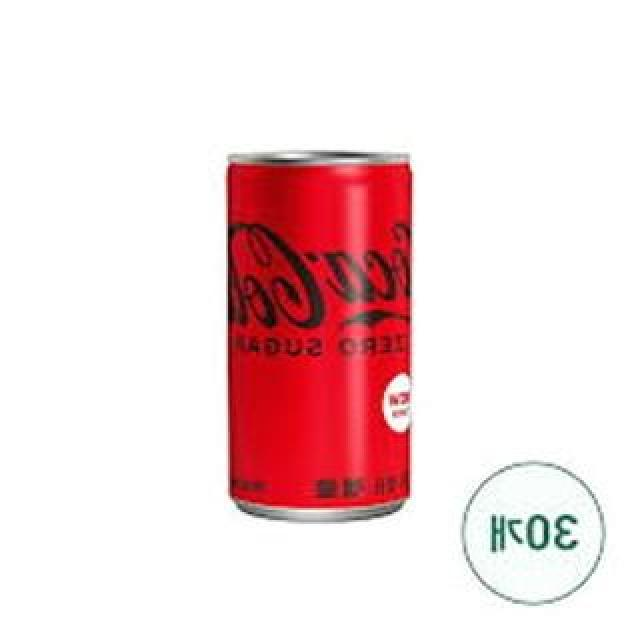Can: (217, 140, 431, 536)
